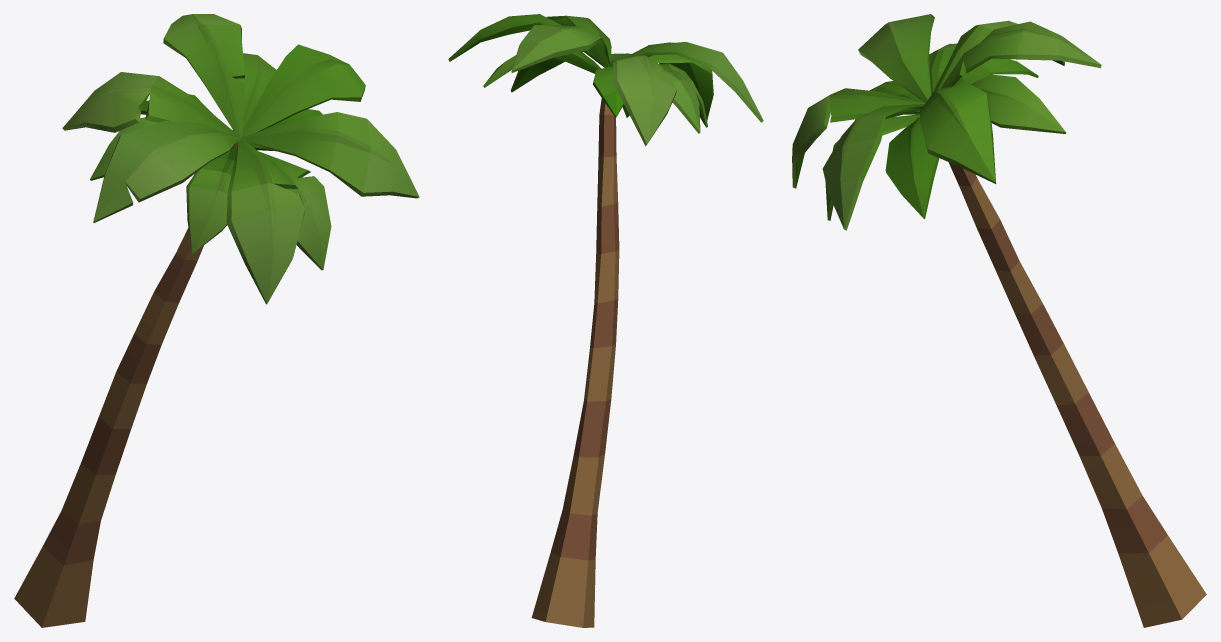
File: Anim_PalmTree_Colour.fbx
The picture shows the model from 3 angles, left to right: view 1: azimuth 30°, elevation 25°; view 2: azimuth 150°, elevation 25°; view 3: azimuth 270°, elevation 25°; orthographic projection. The views are drawn at different scales.
Parts seen in each view (by area): view 1: Anim_PalmTree_Colour; view 2: Anim_PalmTree_Colour; view 3: Anim_PalmTree_Colour.
Part boxes in pixels (x1,y1,x2,y2): Anim_PalmTree_Colour: (14,14,419,627); Anim_PalmTree_Colour: (448,14,763,627); Anim_PalmTree_Colour: (792,14,1206,627).
Size of the model in its own units: 4.15 by 7.85 by 4.72.
